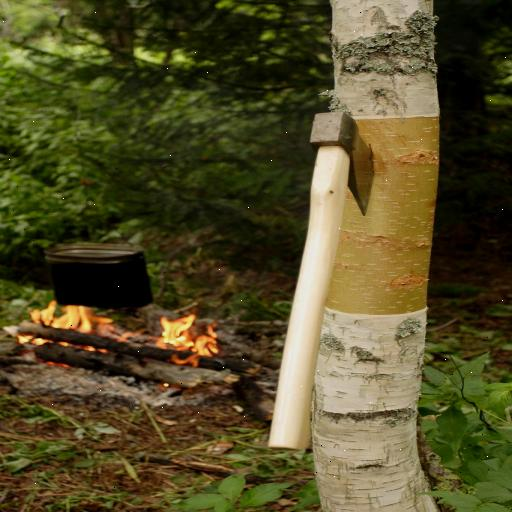Axe: (264, 108, 380, 453)
